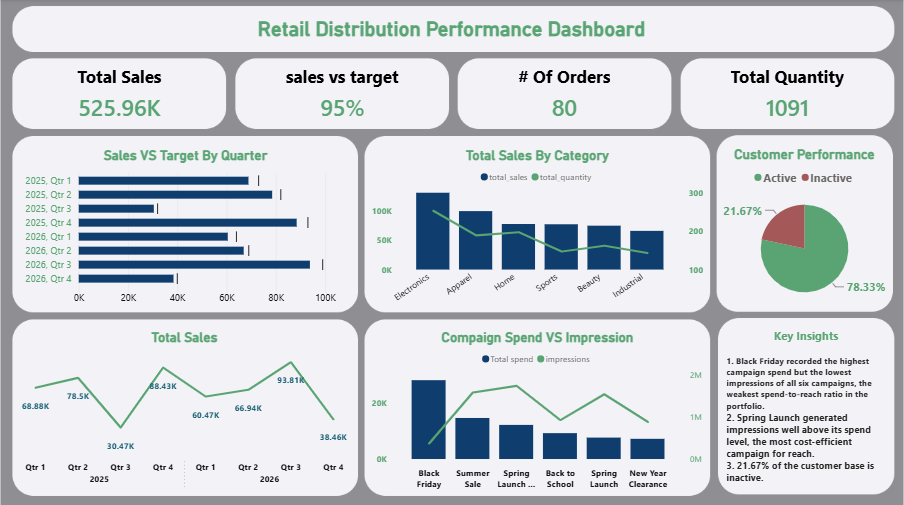

Layout of this report page (visuals, bound fields, positions):
{"tool":"powerbi","page":{"name":"Page 1","canvas":[1280,720],"ordinal":0},"visuals":[{"type":"lineClusteredColumnComboChart","title":"Total Sales VS Target Achieving","fields":{"Category":["dim_calender.Year","dim_calender.Quarter"],"Y":["_measures.total_sales"],"Y2":["_measures.sales vs target %"]},"box":[21.3,453.5,480.5,249.4],"z":0},{"type":"lineClusteredColumnComboChart","title":"Total Sales By Category","fields":{"Category":["dim_products.category"],"Y":["_measures.total_sales"],"Y2":["_measures.total_quantity"]},"box":[521.6,195.6,480.5,250.9],"z":1000},{"type":"lineClusteredColumnComboChart","title":"Compaign Spend VS Impression","fields":{"Category":["dim_campaign.campaign_name"],"Y":["Sum(fact_compaign.spend)"],"Y2":["Sum(fact_compaign.impressions)"]},"box":[521.6,453.5,480.5,249.4],"z":2000},{"type":"PBI_CV_9272D058_BEA0_476A_B090_A712545F92FA","title":"Sales VS Target By Quarter","fields":{"targets":["Sum(fact_sales_target.target_revenue)"],"Value":["_measures.total_sales"],"Category":["dim_calender.Date.Variation.Date Hierarchy.Year"],"tooltips":["_measures.sales vs target %"]},"box":[22.7,195.6,480.5,250.9],"z":3000},{"type":"pieChart","title":"Customer Performance","fields":{"Y":["_measures.active_customer","_measures.inactive_customer"]},"box":[1017.6,194.2,245.2,250],"z":4000},{"type":"cardVisual","fields":{"Data":["_measures.total_sales"]},"box":[24.1,83.6,290.6,100.6],"z":5000},{"type":"textbox","title":" Retail Distribution Performance Dashboard","box":[0,9.9,1279.8,65.2],"z":6000},{"type":"textbox","box":[1025.1,450.9,235.6,251.7],"z":7000},{"type":"cardVisual","fields":{"Data":["_measures.sales vs target %"]},"box":[340.2,83.6,290.6,100.6],"z":8000},{"type":"cardVisual","fields":{"Data":["_measures.total_quantity"]},"box":[970.9,83.6,290.6,100.6],"z":9000},{"type":"cardVisual","fields":{"Data":["_measures.count_order"]},"box":[654.8,83.6,290.6,100.6],"z":10000}]}

Visuals, with their boxes in screenshot pixels (x1, y1, x2, y2), scaled from the page's 1280x720 canvas onto the 904x505 screenshot:
"Total Sales VS Target Achieving" lineClusteredColumnComboChart: 15:318:354:493
"Total Sales By Category" lineClusteredColumnComboChart: 368:137:708:313
"Compaign Spend VS Impression" lineClusteredColumnComboChart: 368:318:708:493
"Sales VS Target By Quarter" PBI_CV_9272D058_BEA0_476A_B090_A712545F92FA: 16:137:355:313
"Customer Performance" pieChart: 719:136:892:312
cardVisual - _measures.total_sales: 17:59:222:129
" Retail Distribution Performance Dashboard" textbox: 0:7:903:53
textbox: 724:316:890:493
cardVisual - _measures.sales vs target %: 240:59:446:129
cardVisual - _measures.total_quantity: 686:59:891:129
cardVisual - _measures.count_order: 462:59:668:129
